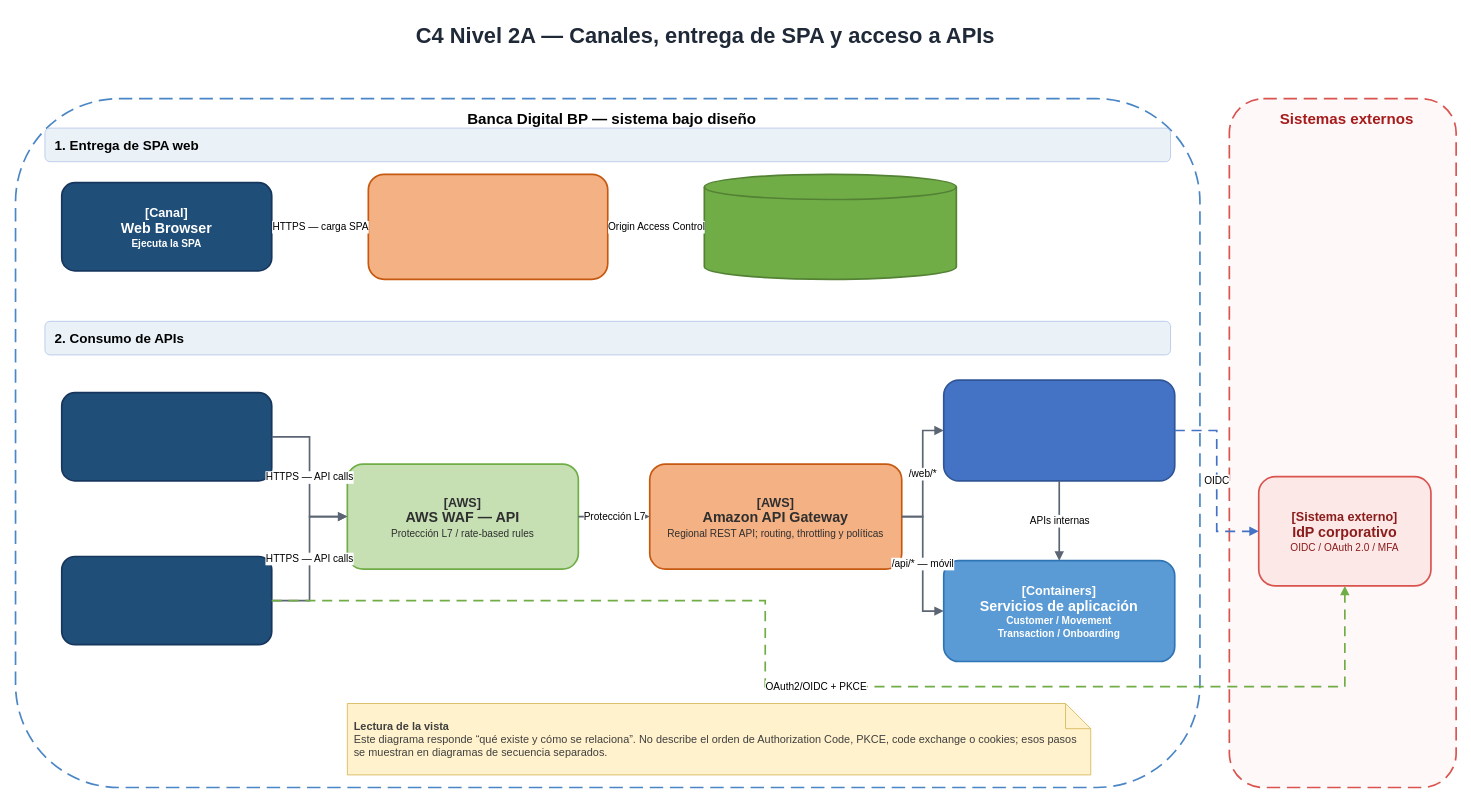
Some shapes in this 1471 by 802 pixel diagram are drawn without their labels. The centre of each missing label's shape, as x and y in pixels:
"[AWS] CloudFront + WAF CDN + protección L7 del contenido web" goes at point 487,226.
"[AWS] S3 privado — SPA HTML / JS / CSS mediante OAC" goes at point 830,226.
"[Canal] App móvil Flutter / iOS / Android" goes at point 166,600.
"[Canal] SPA ejecutándose API calls desde navegador" goes at point 166,436.
"[Container] Web BFF Sesión server-side y adaptación del canal web" goes at point 1058,430.
